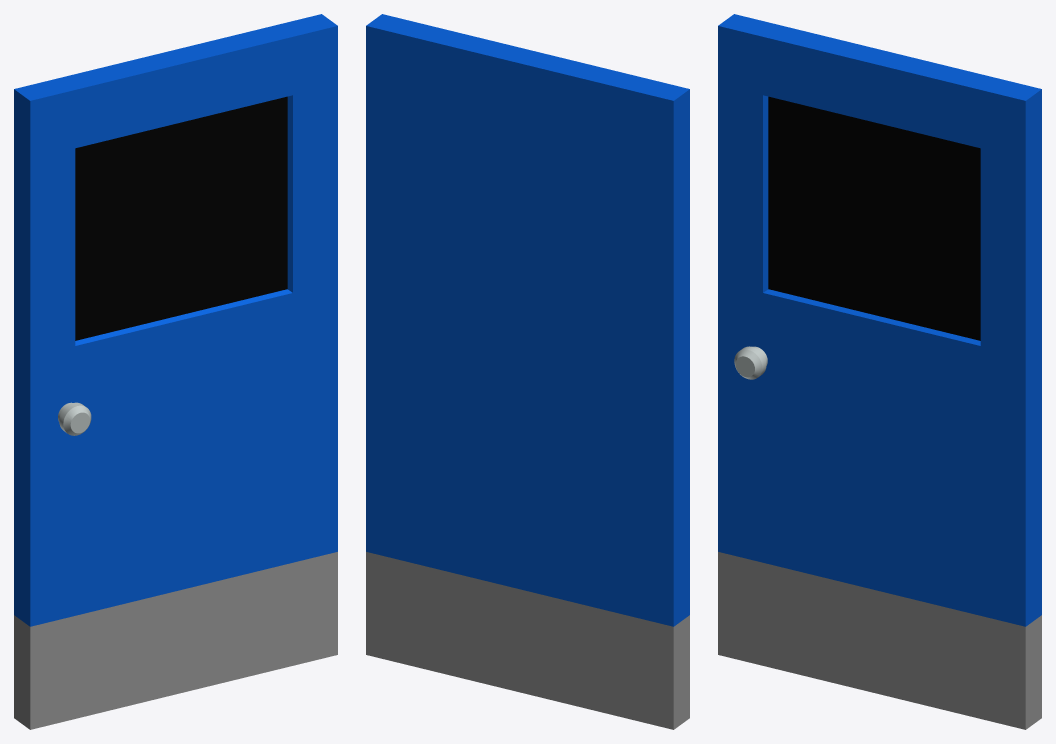
File: Door.fbx
The picture shows the model from 3 angles, left to right: view 1: azimuth 30°, elevation 25°; view 2: azimuth 150°, elevation 25°; view 3: azimuth 330°, elevation 25°; orthographic projection.
Parts seen in each view (by area): view 1: Cube; view 2: Cube; view 3: Cube.
Boxes of the visible parts, bbox=[...] form: Cube: bbox=[14, 14, 337, 729]; Cube: bbox=[366, 14, 689, 729]; Cube: bbox=[718, 14, 1041, 729].
Bounding box in the file's own units: 200 × 391 × 31.13.
